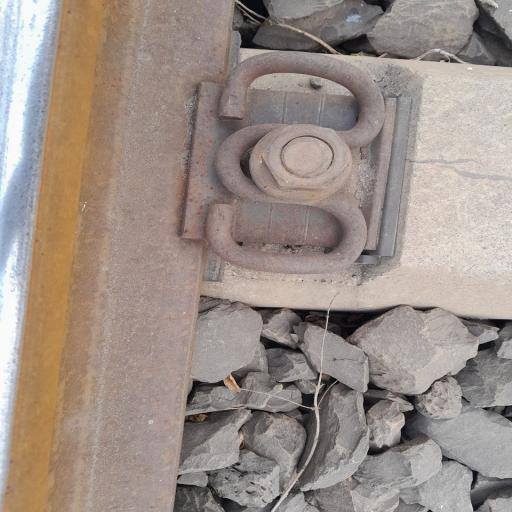bolt: (247, 120, 375, 199)
clip: (204, 44, 409, 279)
